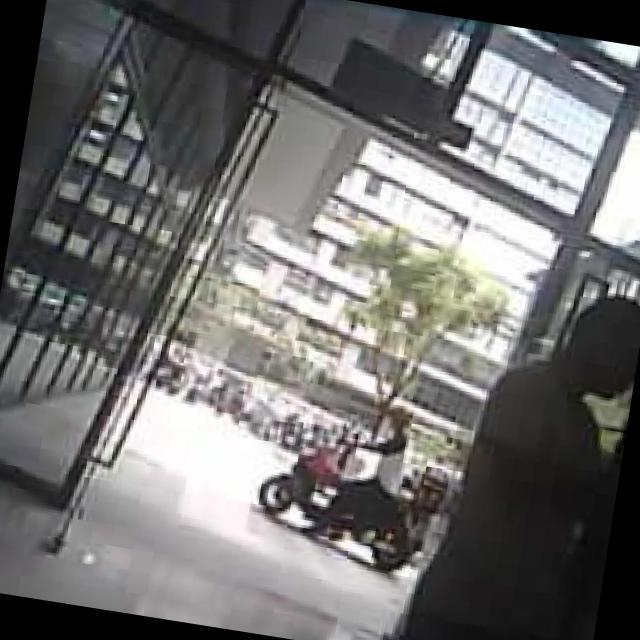person: (388, 268, 640, 640), (308, 395, 416, 553)
